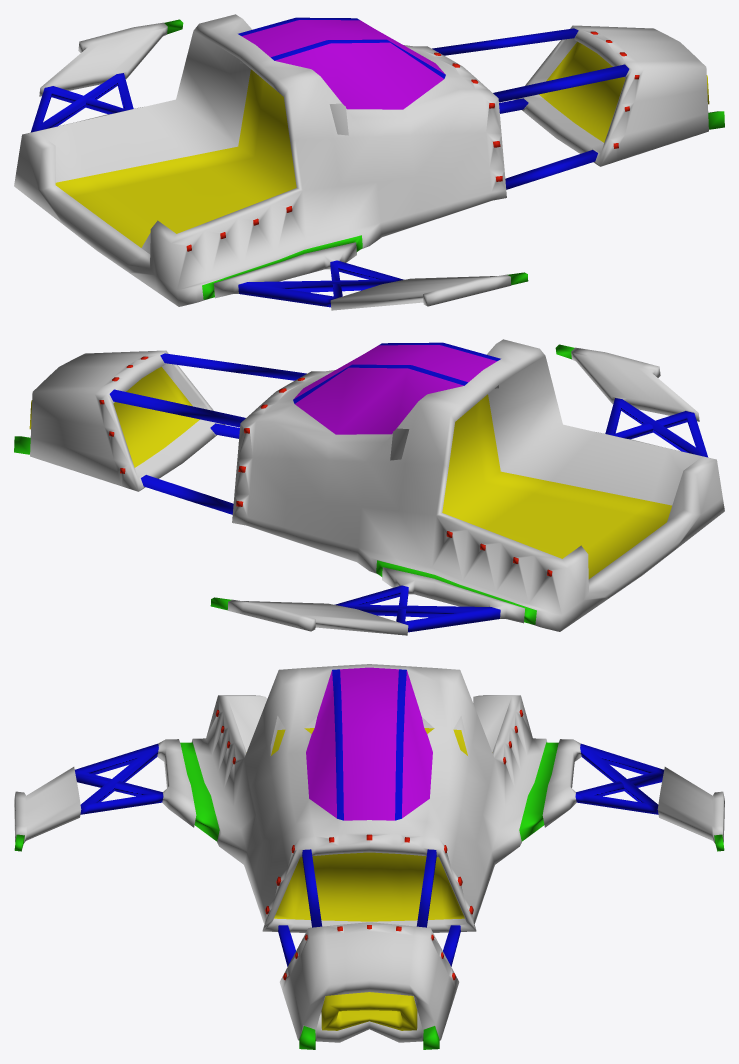
File: RaidersShip_01_Low.fbx
3 renders of one model, top to bottom at view 1: azimuth 30°, elevation 25°; view 2: azimuth 150°, elevation 25°; view 3: azimuth 270°, elevation 25°, orthographic.
Parts seen in each view (by area): view 1: Cube; view 2: Cube; view 3: Cube.
Boxes of the visible parts, box(x1,y1,x2,y2) form: Cube: box(14, 14, 724, 310); Cube: box(14, 339, 724, 635); Cube: box(14, 664, 724, 1049).
Bounding box in the file's own units: 6.3 × 1.68 × 6.19.
